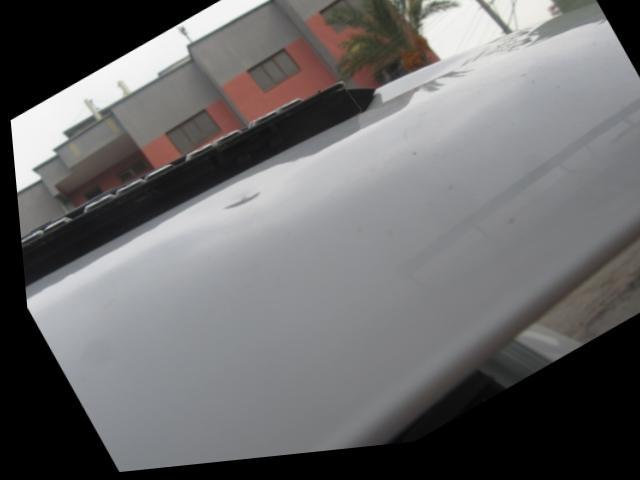scratch: (206, 180, 264, 226)
